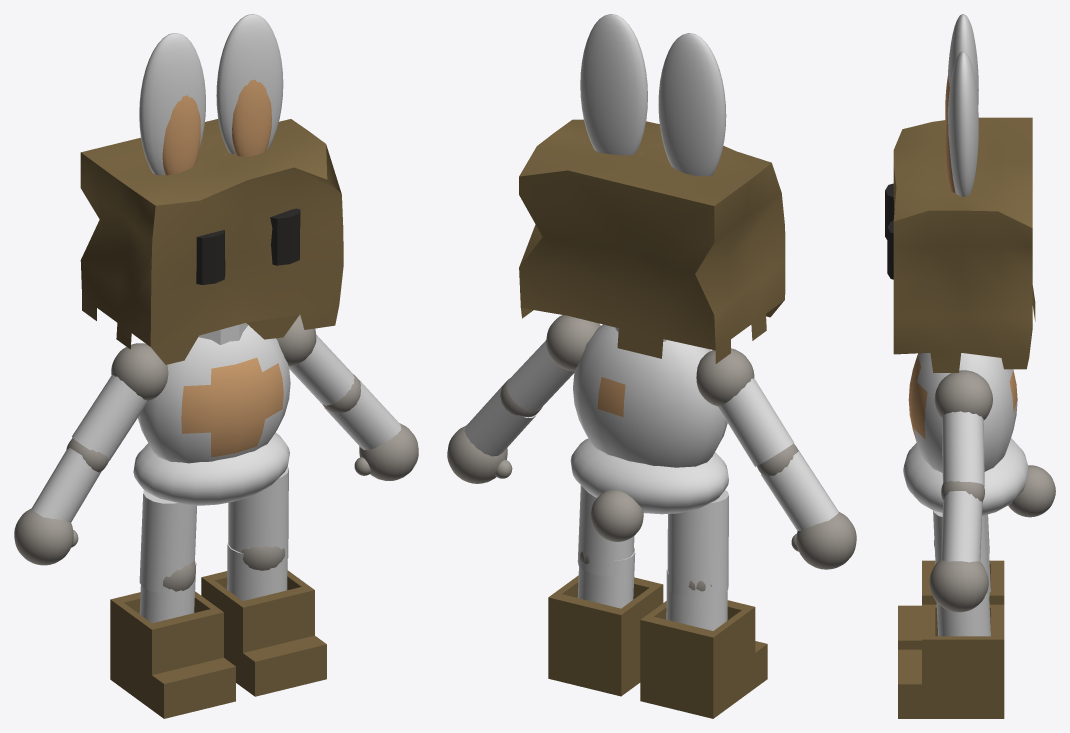
The model's file is PersonajeU.fbx.
The picture shows the model from 3 angles, left to right: view 1: azimuth 30°, elevation 25°; view 2: azimuth 150°, elevation 25°; view 3: azimuth 270°, elevation 25°; orthographic projection. The views are drawn at different scales.
Parts seen in each view (by area): view 1: pCube1, pSphere27, polySurface29, polySurface24, pSphere32, pSphere33, pSphere2, polySurface30, polySurface25, polySurface7, polySurface8, polySurface1 (+10 smaller); view 2: pCube1, pSphere27, polySurface29, polySurface24, pSphere32, pSphere33, pSphere2, polySurface30, polySurface7, polySurface8, polySurface1, polySurface14 (+9 smaller); view 3: pCube1, polySurface24, pSphere27, pSphere33, pSphere2, polySurface14, polySurface18, polySurface11, polySurface29, polySurface20, polySurface21, pSphere3 (+5 smaller).
Boxes of the visible parts, <box> form: pCube1: <box>80,119,343,364</box>; pSphere27: <box>138,325,290,463</box>; polySurface29: <box>110,591,235,718</box>; polySurface24: <box>201,570,326,696</box>; pSphere32: <box>139,33,205,175</box>; pSphere33: <box>216,14,283,156</box>; pSphere2: <box>133,432,289,505</box>; polySurface30: <box>139,490,196,592</box>; polySurface25: <box>228,467,288,561</box>; polySurface7: <box>72,375,148,460</box>; polySurface8: <box>31,448,101,522</box>; polySurface1: <box>14,508,73,565</box>; pCube1: <box>519,119,785,363</box>; pSphere27: <box>573,324,727,467</box>; polySurface29: <box>640,600,767,718</box>; polySurface24: <box>548,575,663,696</box>; pSphere32: <box>658,33,726,176</box>; pSphere33: <box>580,14,647,155</box>; pSphere2: <box>570,438,728,514</box>; polySurface30: <box>667,490,728,597</box>; polySurface7: <box>717,378,794,466</box>; polySurface8: <box>761,450,838,530</box>; polySurface1: <box>796,512,856,569</box>; polySurface14: <box>507,340,574,411</box>; pCube1: <box>893,117,1035,372</box>; polySurface24: <box>898,604,1004,718</box>; pSphere27: <box>908,353,1017,472</box>; pSphere33: <box>945,51,978,196</box>; pSphere2: <box>903,438,1028,515</box>; polySurface14: <box>942,411,984,486</box>; polySurface18: <box>941,491,982,562</box>; polySurface11: <box>929,559,988,612</box>; polySurface29: <box>898,560,1004,649</box>; polySurface20: <box>934,370,992,420</box>; polySurface21: <box>936,597,990,636</box>; pSphere3: <box>1008,465,1055,517</box>.
Bounding box in the file's own units: 5.51 × 8.65 × 2.08.
